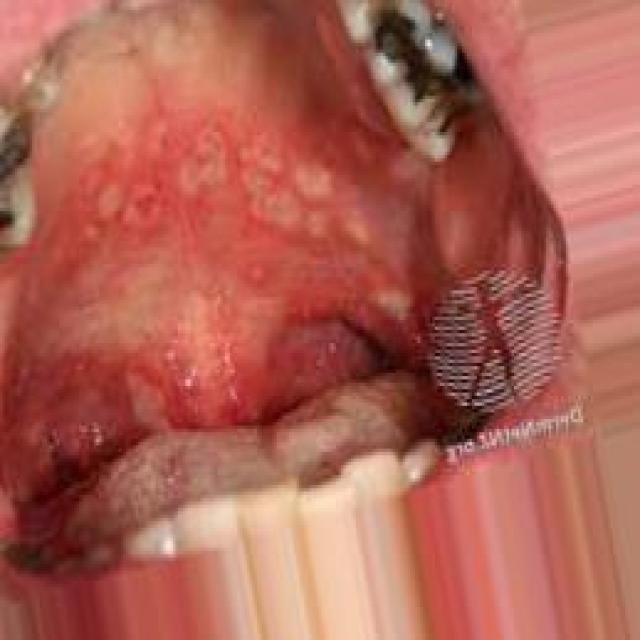caries: (347, 0, 441, 89), (0, 100, 48, 232), (437, 51, 498, 142)
